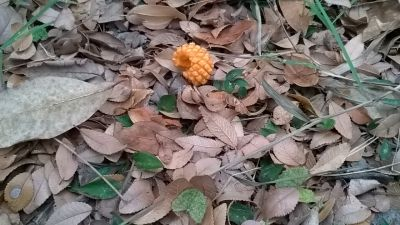eggs: (174, 44, 213, 84)
